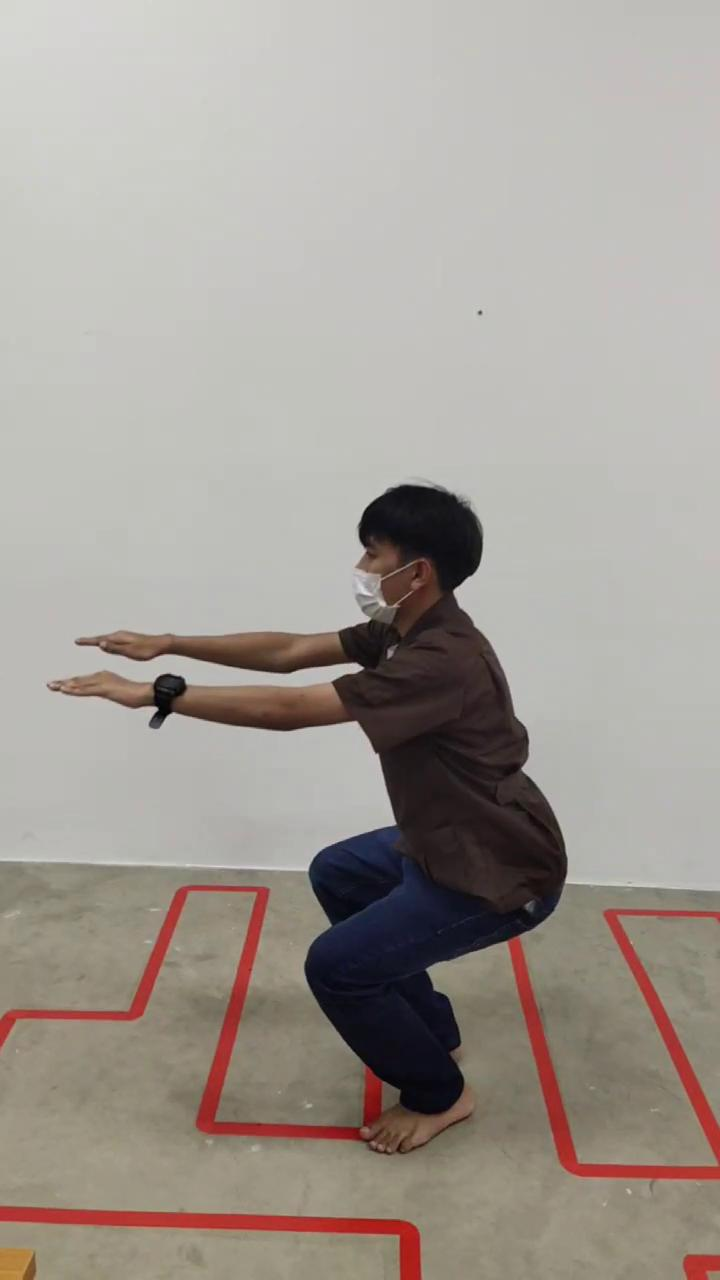squat down: (53, 482, 568, 1153)
